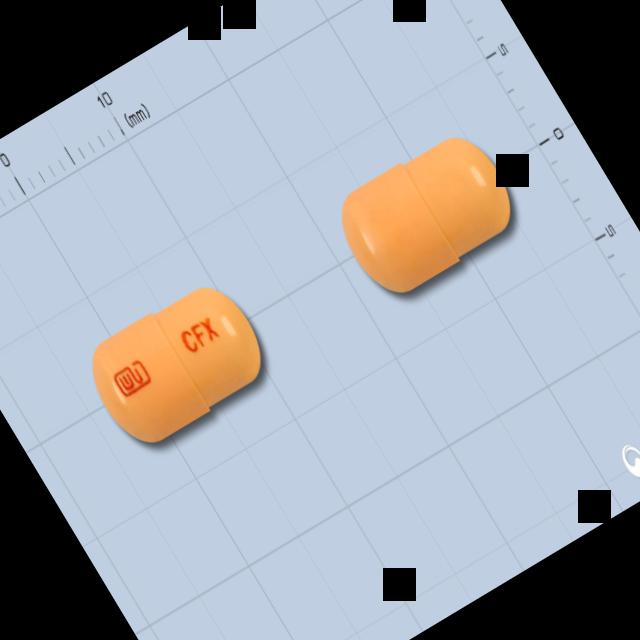Cefixime Cap- Withus: (72, 264, 288, 467)
